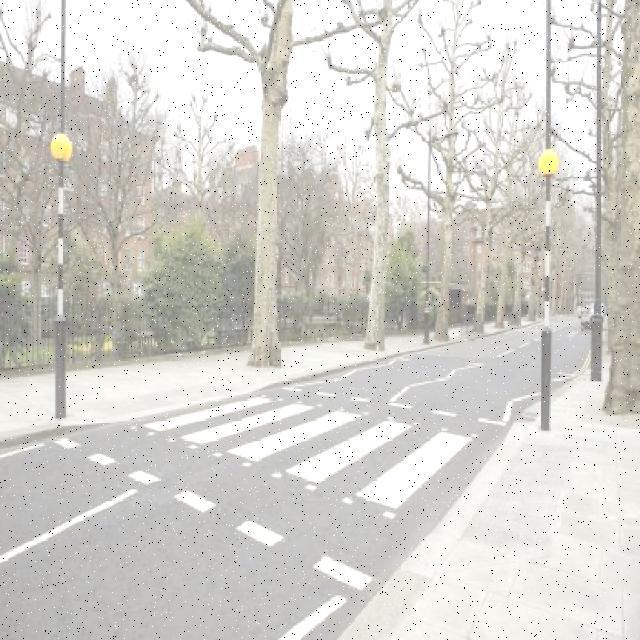crosswalk: (137, 391, 494, 528)
